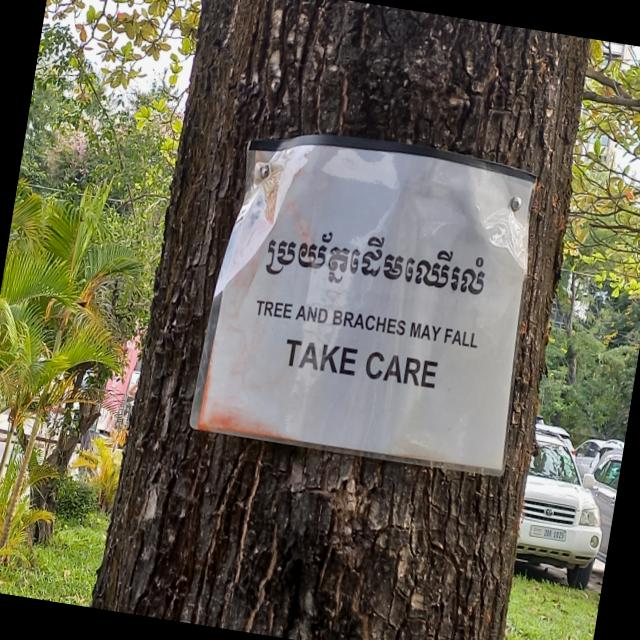Yolov11kh: (259, 226, 491, 317)
